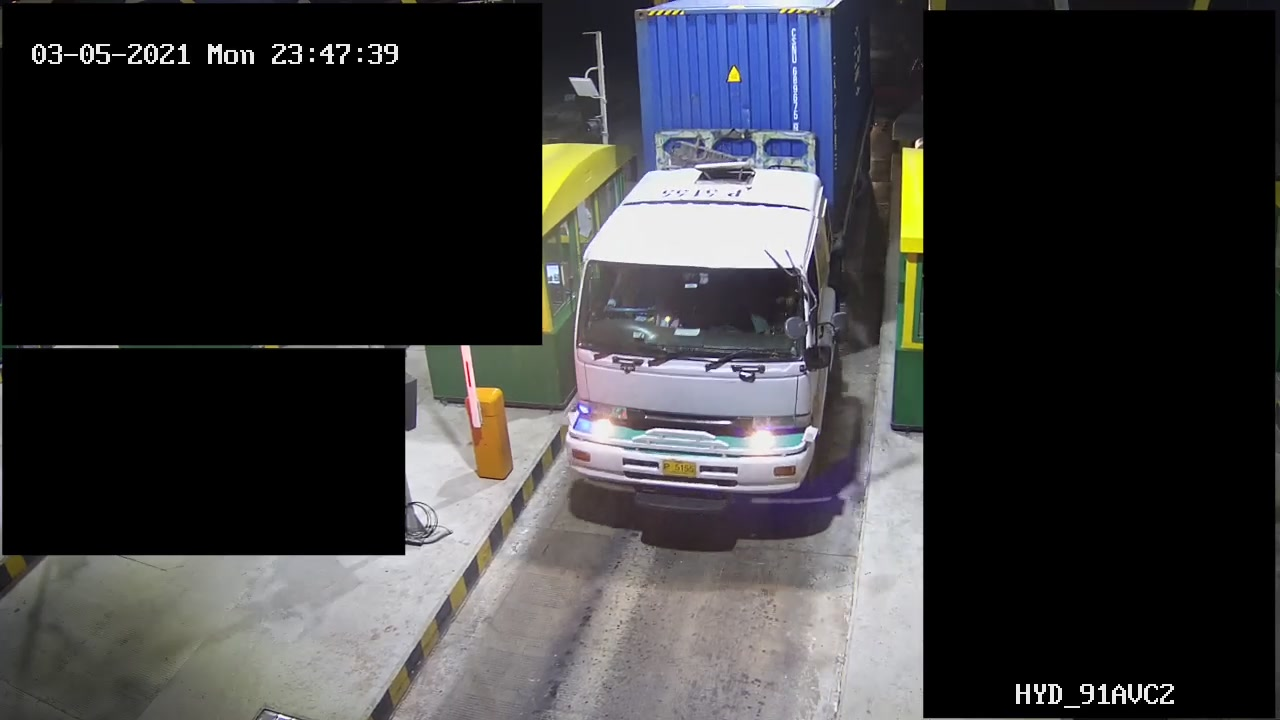F6: (559, 1, 888, 514)
